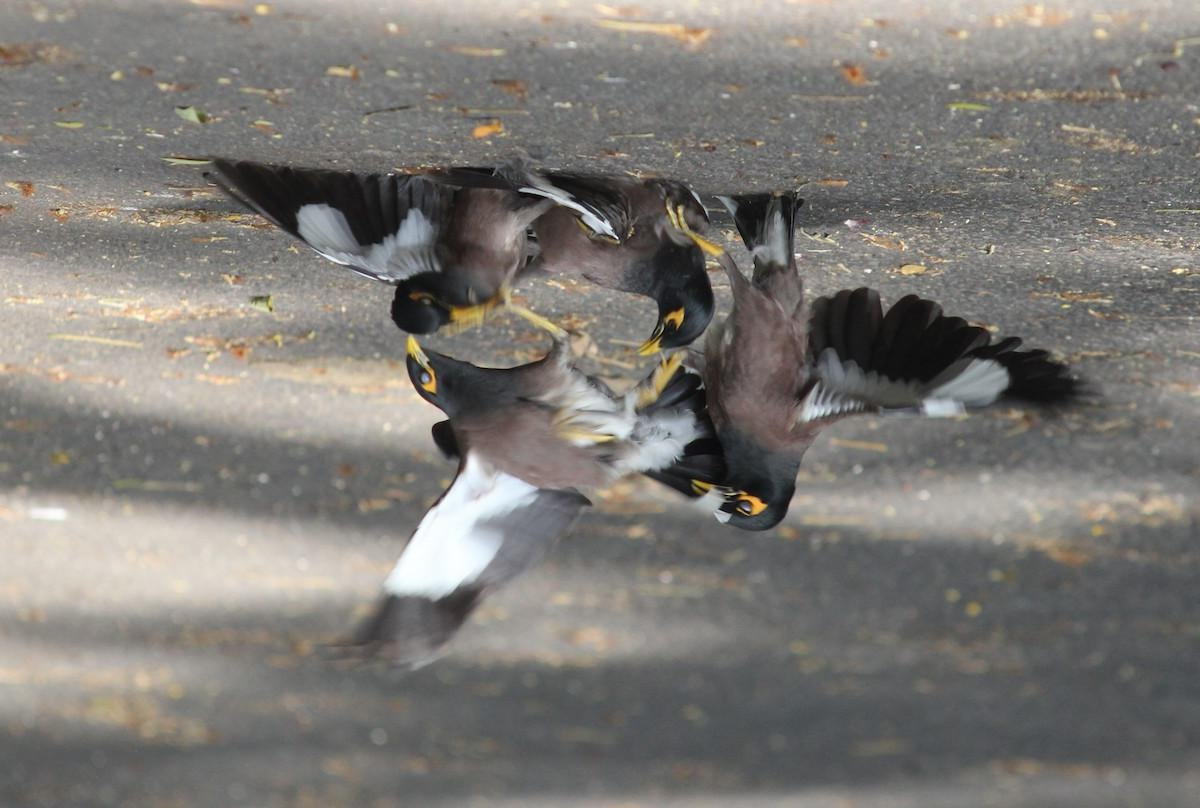myna: (656, 191, 1020, 551), (375, 325, 656, 601), (191, 148, 601, 326), (563, 158, 718, 357)
